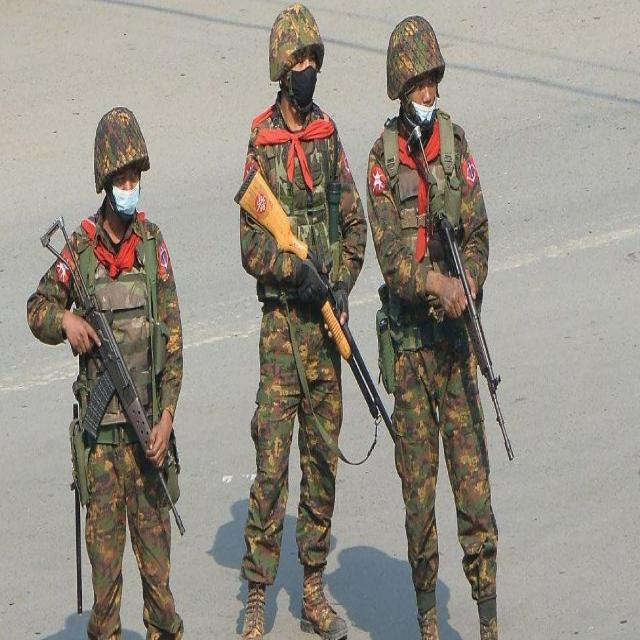gun: (36, 215, 188, 539), (233, 166, 398, 450), (404, 128, 514, 464)
